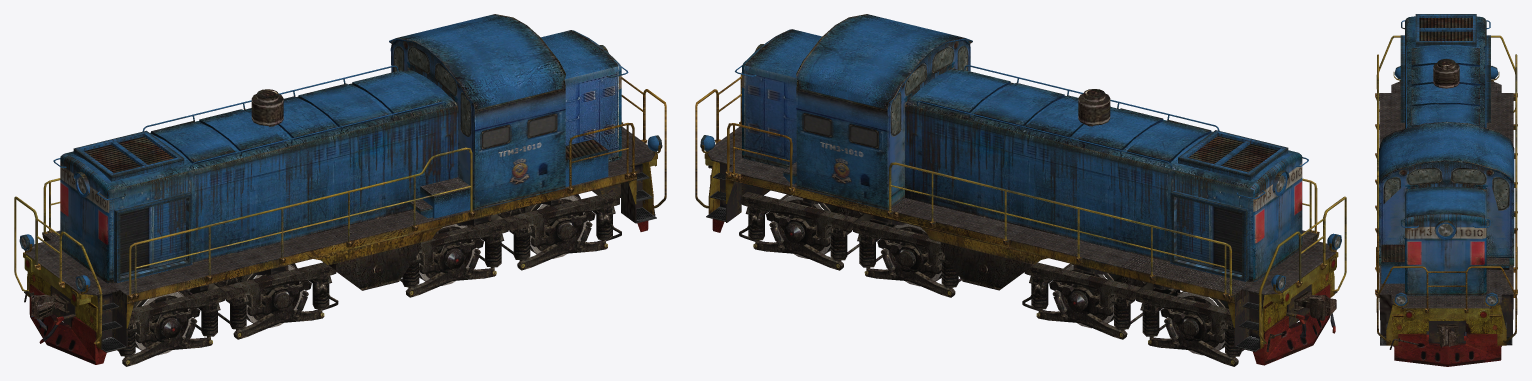
Rendered from LTZ TGM3.glb.
The picture shows the model from 3 angles, left to right: view 1: azimuth 30°, elevation 25°; view 2: azimuth 150°, elevation 25°; view 3: azimuth 270°, elevation 25°; orthographic projection. The views are drawn at different scales.
Parts seen in each view (by area): view 1: set_0_group_0; view 2: set_0_group_0; view 3: set_0_group_0.
Boxes of the visible parts, x1=… form: set_0_group_0: x1=14, y1=14, x2=666, y2=366; set_0_group_0: x1=695, y1=14, x2=1346, y2=366; set_0_group_0: x1=1375, y1=14, x2=1517, y2=366.
Size of the model in its own units: 13.28 by 4.51 by 3.28.
1 material, 1 textured.
